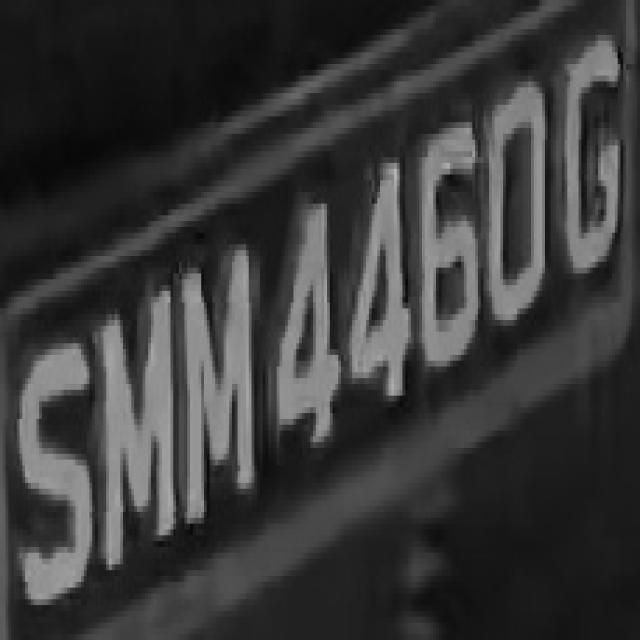0: (475, 76, 556, 360)
4: (344, 145, 425, 448), (262, 186, 346, 477)
6: (414, 116, 489, 396)
G: (559, 12, 623, 308)
M: (162, 239, 271, 535), (90, 256, 176, 564)
S: (8, 326, 95, 611)
